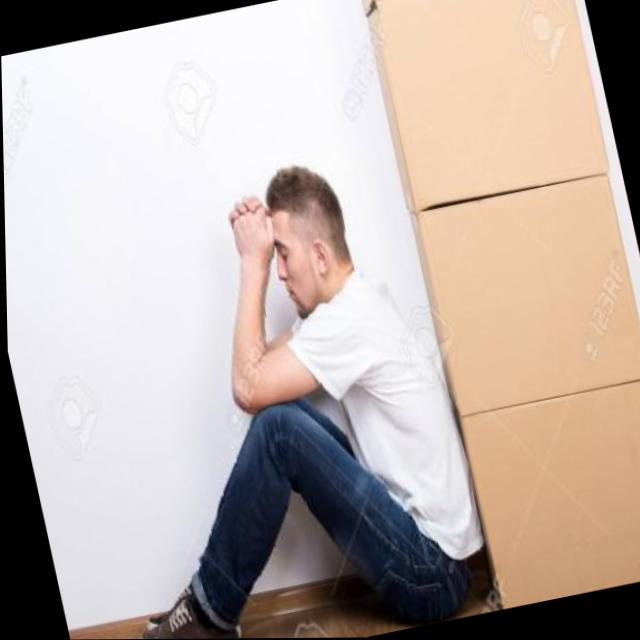box: (395, 171, 640, 423), (361, 0, 624, 227), (442, 375, 640, 612)
